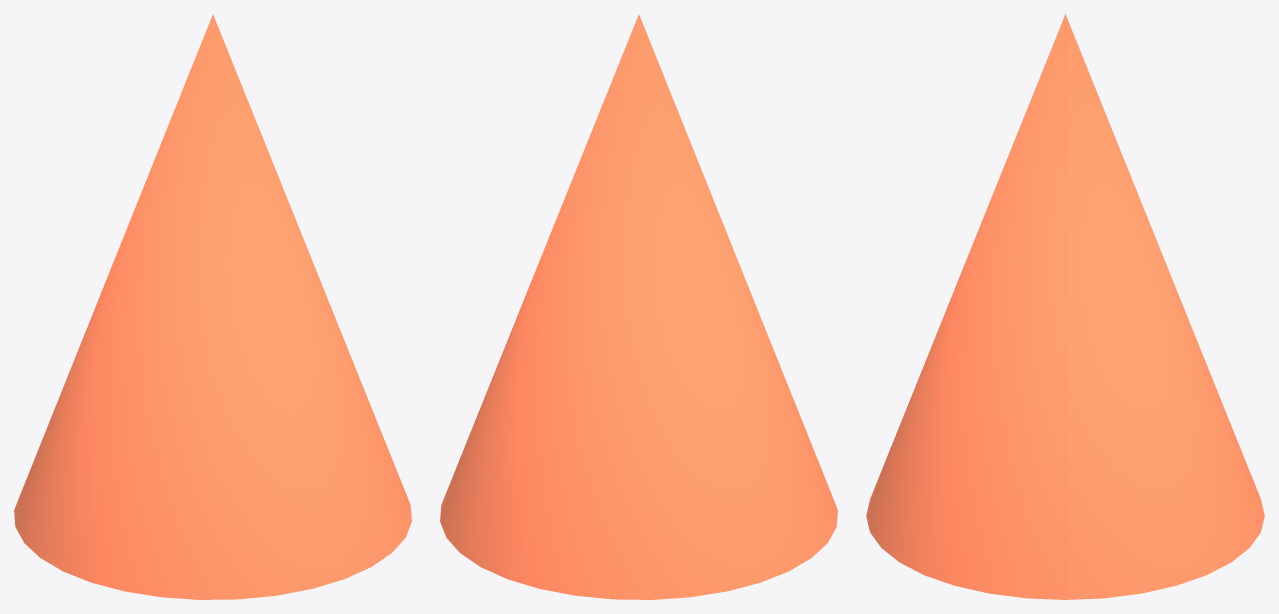
Rendered from s3_feedback_arrow.glb.
3 views of the same model, side by side, from view 1: azimuth 30°, elevation 25°; view 2: azimuth 150°, elevation 25°; view 3: azimuth 270°, elevation 25° (orthographic).
Visible parts, largest first — view 1: arrowhead; view 2: arrowhead; view 3: arrowhead.
Boxes of the visible parts, x1=… form: arrowhead: x1=14, y1=14, x2=411, y2=599; arrowhead: x1=440, y1=14, x2=837, y2=599; arrowhead: x1=866, y1=14, x2=1264, y2=599.
Size of the model in its own units: 0.18 by 0.25 by 0.18.
